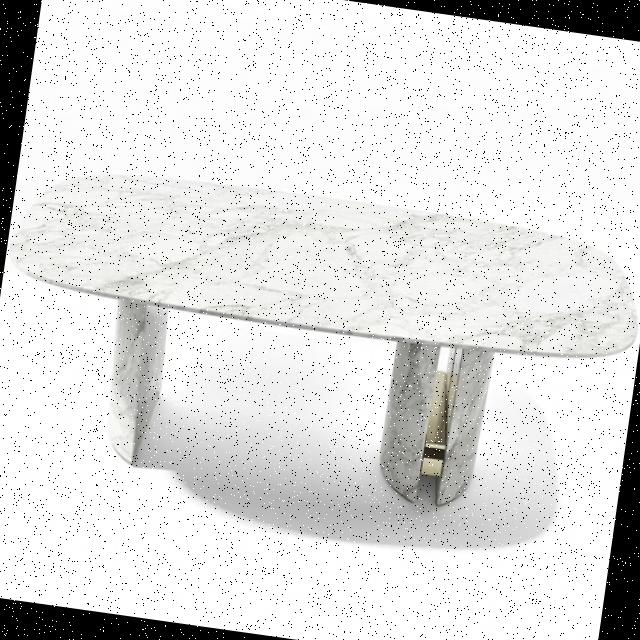Table: (0, 140, 640, 570)
